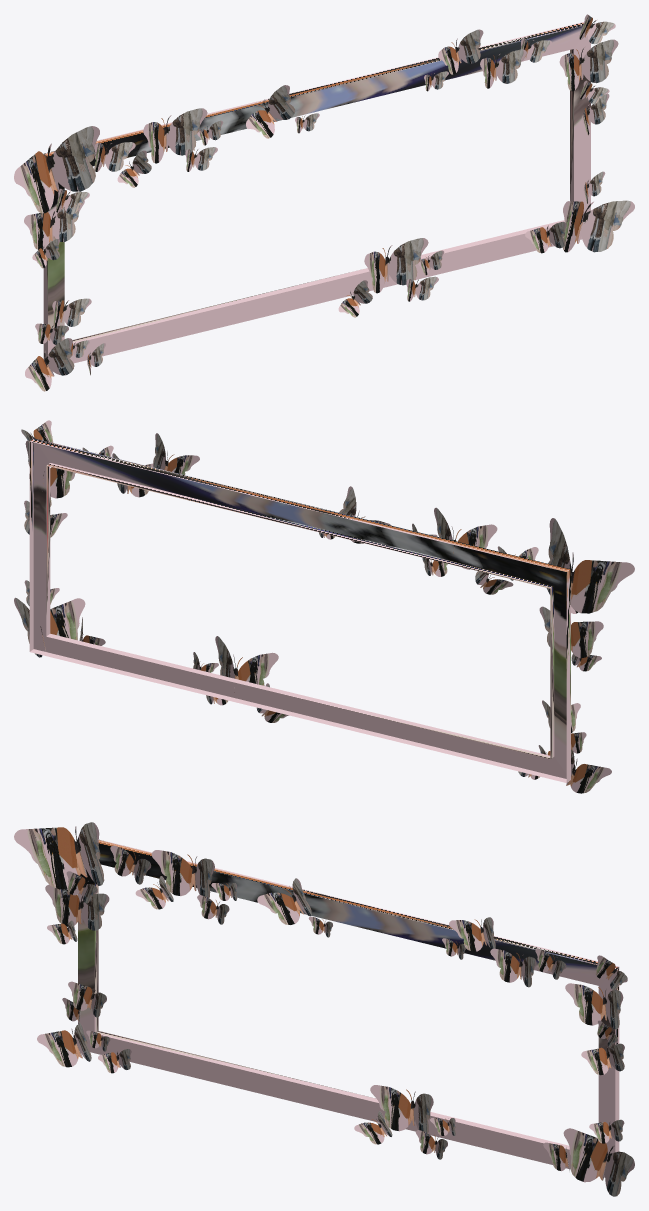
Rendered from frame_3_LONG.fbx.
3 renders of one model, top to bottom at view 1: azimuth 30°, elevation 25°; view 2: azimuth 150°, elevation 25°; view 3: azimuth 330°, elevation 25°, orthographic.
Parts seen in each view (by area): view 1: Cube.026; view 2: Cube.026; view 3: Cube.026.
Boxes of the visible parts, box(x1,y1,x2,y2) form: Cube.026: box(14, 14, 634, 391); Cube.026: box(14, 420, 634, 793); Cube.026: box(14, 822, 634, 1196).
Size of the model in its own units: 216 by 87.96 by 11.87.
